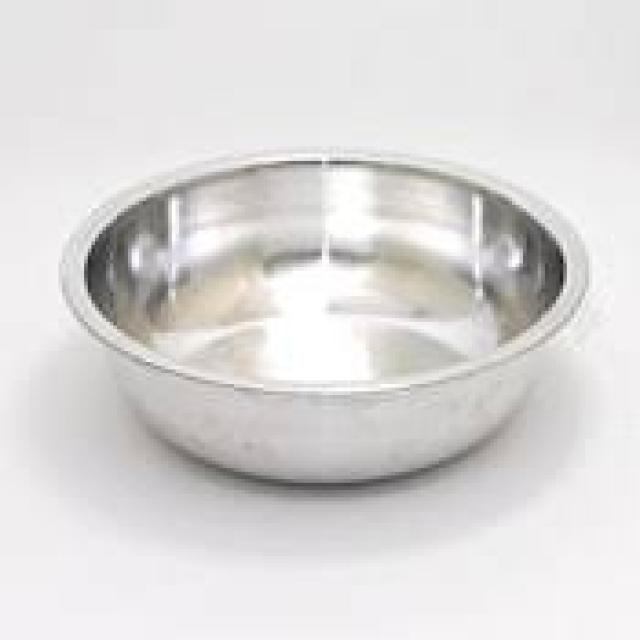Dry: (54, 140, 596, 493)
